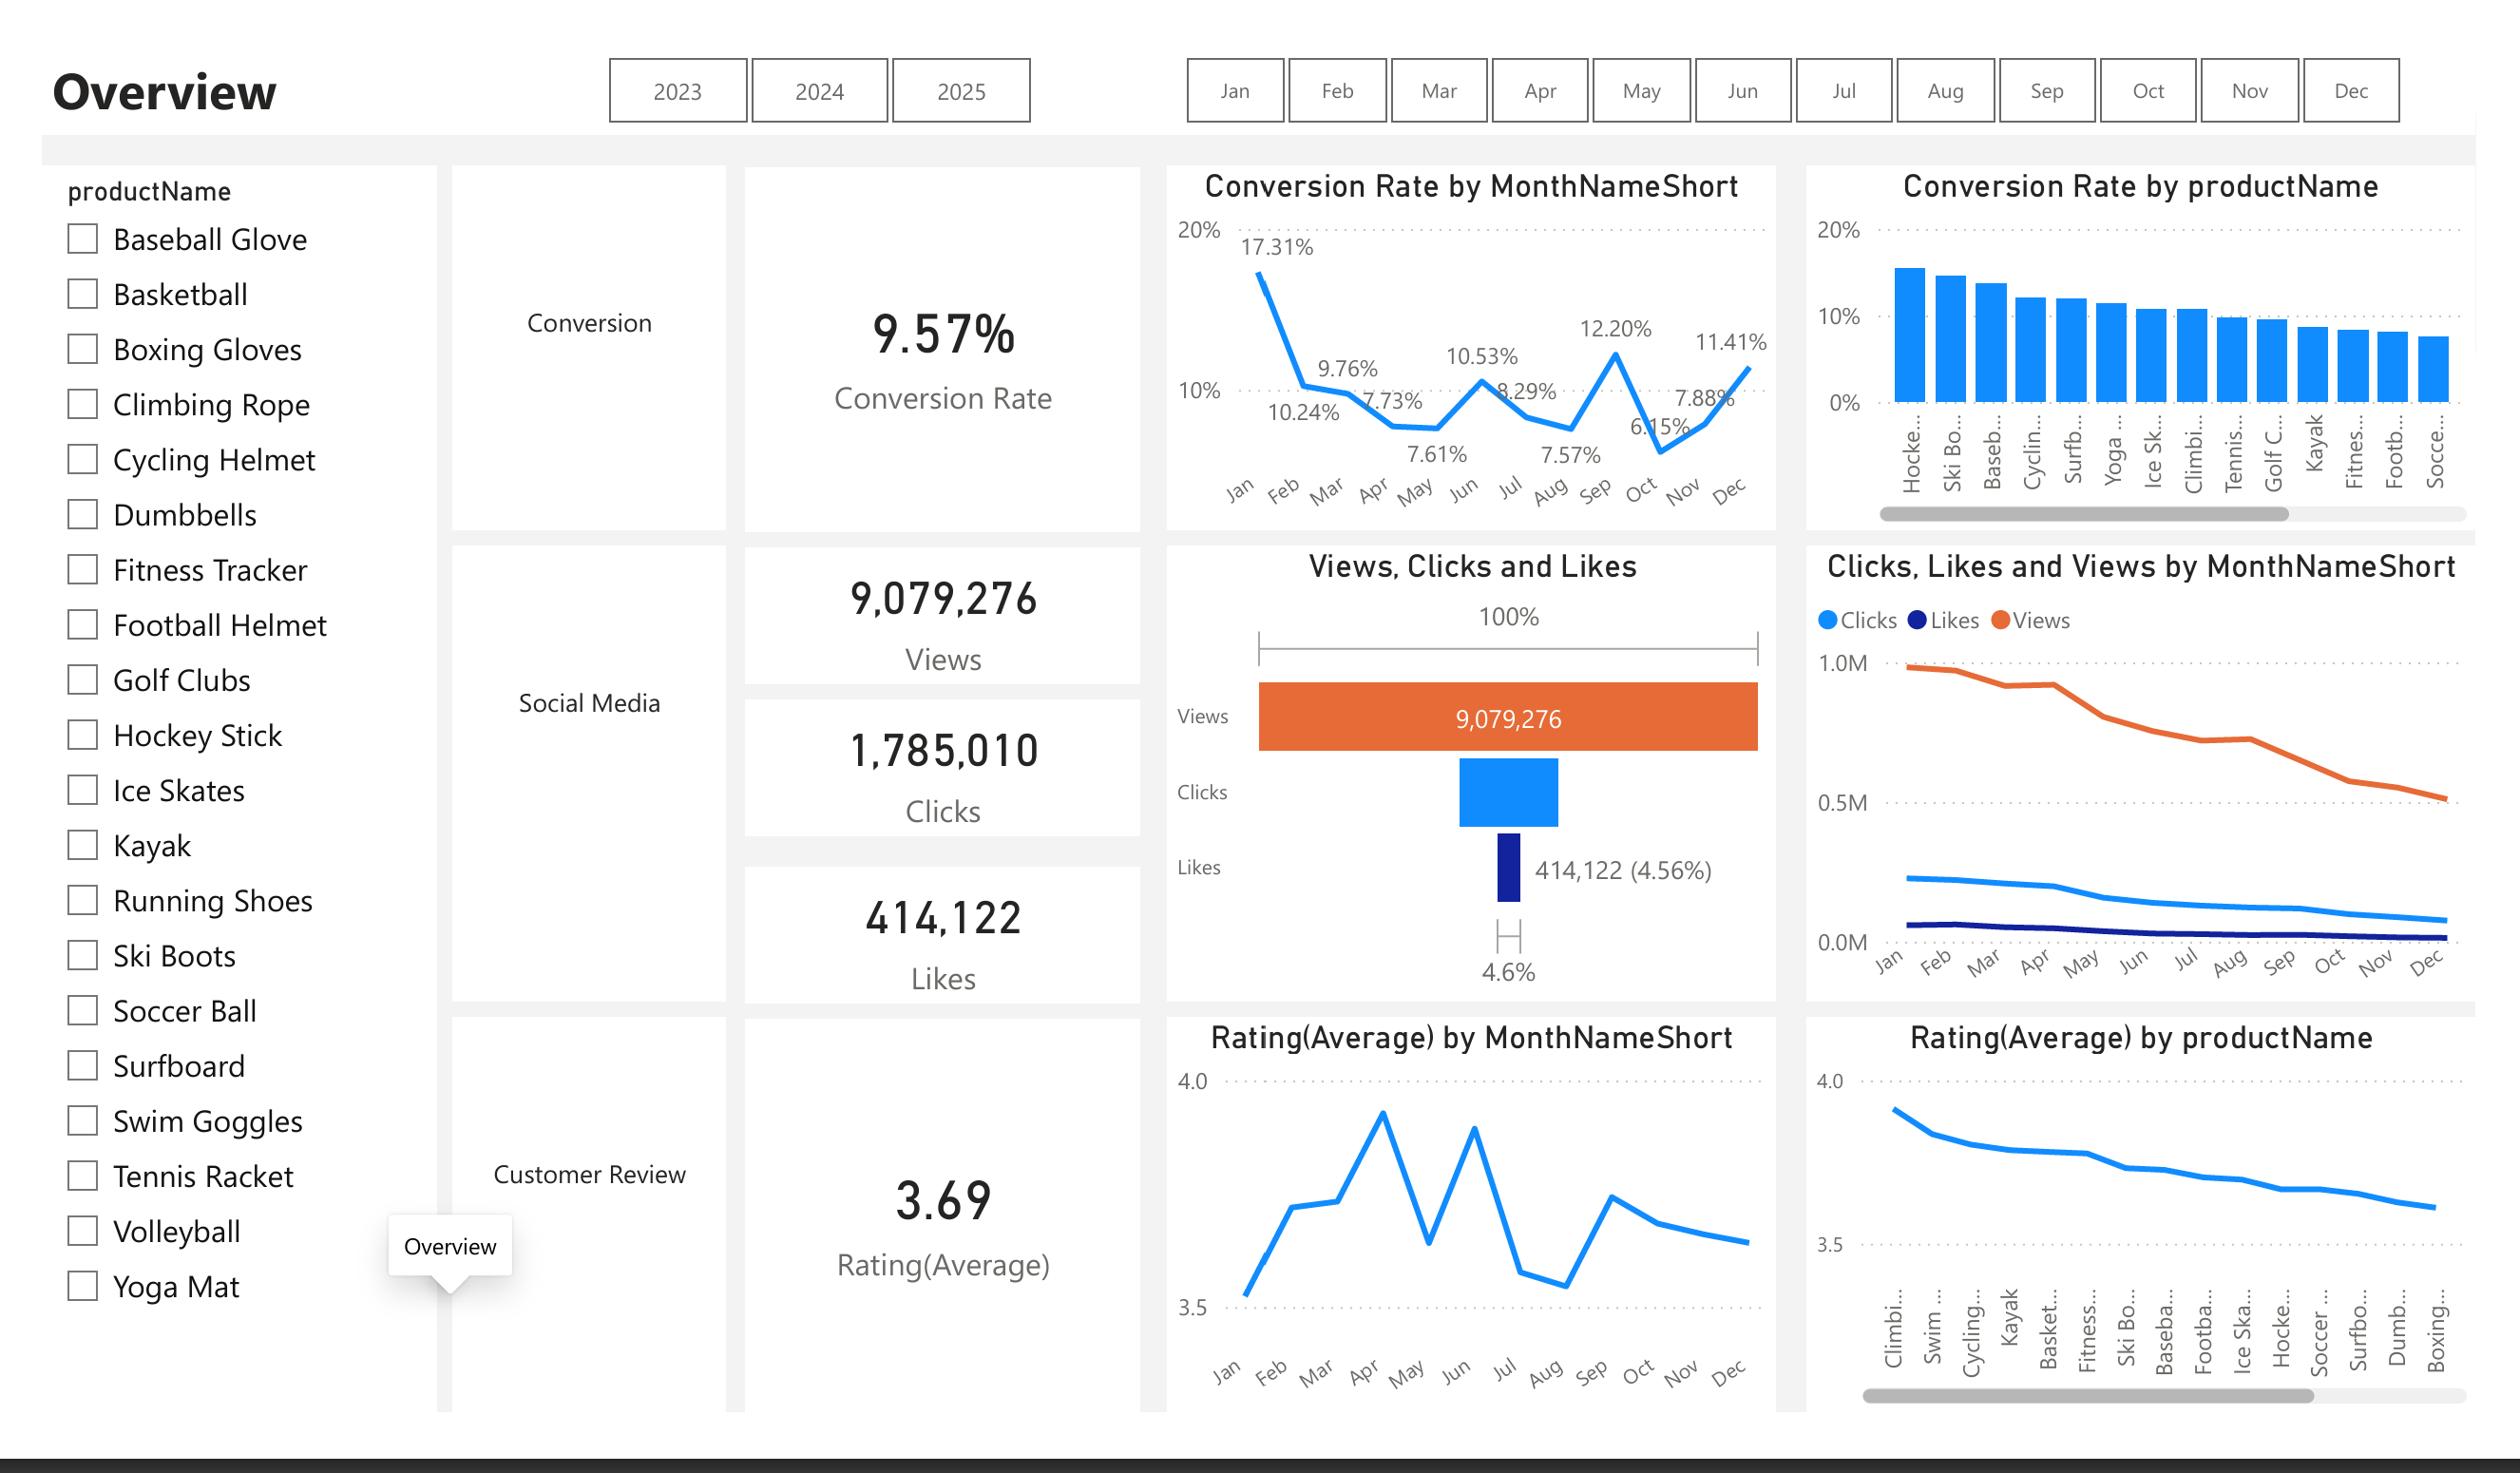

The dashboard page shown, as its layout file describes it:
{"tool":"powerbi","page":{"name":"Overview","canvas":[1280,720],"ordinal":0},"visuals":[{"type":"card","fields":{"Values":["Calculations.Conversion Rate"]},"box":[370,65.1,208,192],"z":0},{"type":"textbox","box":[0,0,1280,48],"z":1000},{"type":"slicer","fields":{"Values":["dim_products.productName"]},"box":[0,64,208,656],"z":2000},{"type":"textbox","box":[216,64,144,192],"z":3000},{"type":"textbox","box":[216,512,144,208],"z":4000},{"type":"textbox","box":[216,264,144,240],"z":5000},{"type":"card","fields":{"Values":["Calculations.Rating(Average)"]},"box":[370,513.1,208,208],"z":6000},{"type":"card","fields":{"Values":["Calculations.Likes"]},"box":[370,433.1,208,72],"z":7000},{"type":"card","fields":{"Values":["Calculations.Clicks"]},"box":[370,345.1,208,72],"z":8000},{"type":"card","fields":{"Values":["Calculations.Views"]},"box":[370,265.1,208,72],"z":9000},{"type":"slicer","fields":{"Values":["Calendar.Date.Variation.Date Hierarchy.Year"]},"box":[272,0,272,48],"z":10000},{"type":"slicer","fields":{"Values":["Calendar.MonthNameShort"]},"box":[576,0,688,48],"z":11000},{"type":"lineChart","fields":{"Y":["Calculations.Conversion Rate"],"Category":["Calendar.MonthNameShort"]},"box":[592,64,320,192],"z":12000},{"type":"columnChart","fields":{"Category":["dim_products.productName"],"Y":["Calculations.Conversion Rate"]},"box":[928,64,352,192],"z":13000},{"type":"lineChart","fields":{"Category":["Calendar.MonthNameShort"],"Y":["Calculations.Clicks","Calculations.Likes","Calculations.Views"]},"box":[928,264,352,240],"z":14000},{"type":"funnel","fields":{"Y":["Calculations.Views","Calculations.Clicks","Calculations.Likes"]},"box":[592,264,320,240],"z":15000},{"type":"lineChart","fields":{"Category":["Calendar.MonthNameShort"],"Y":["Calculations.Rating(Average)"]},"box":[592,512,320,208],"z":16000},{"type":"lineChart","fields":{"Y":["Calculations.Rating(Average)"],"Category":["dim_products.productName"]},"box":[928,512,352,208],"z":17000}]}

Visuals, with their boxes on the page's 1280x720 design canvas (x1, y1, x2, y2). These are canvas units, not pixel positions in the 2520x1473 screenshot, which may show the page scaled, cropped or inside an application window:
card - Calculations.Conversion Rate: <bbox>370, 65, 578, 257</bbox>
textbox: <bbox>0, 0, 1280, 48</bbox>
slicer - dim_products.productName: <bbox>0, 64, 208, 720</bbox>
textbox: <bbox>216, 64, 360, 256</bbox>
textbox: <bbox>216, 512, 360, 720</bbox>
textbox: <bbox>216, 264, 360, 504</bbox>
card - Calculations.Rating(Average): <bbox>370, 513, 578, 721</bbox>
card - Calculations.Likes: <bbox>370, 433, 578, 505</bbox>
card - Calculations.Clicks: <bbox>370, 345, 578, 417</bbox>
card - Calculations.Views: <bbox>370, 265, 578, 337</bbox>
slicer - Calendar.Date.Variation.Date Hierarchy.Year: <bbox>272, 0, 544, 48</bbox>
slicer - Calendar.MonthNameShort: <bbox>576, 0, 1264, 48</bbox>
lineChart - Calculations.Conversion Rate x Calendar.MonthNameShort: <bbox>592, 64, 912, 256</bbox>
columnChart - dim_products.productName x Calculations.Conversion Rate: <bbox>928, 64, 1280, 256</bbox>
lineChart - Calendar.MonthNameShort x Calculations.Clicks: <bbox>928, 264, 1280, 504</bbox>
funnel - Calculations.Views x Calculations.Clicks: <bbox>592, 264, 912, 504</bbox>
lineChart - Calendar.MonthNameShort x Calculations.Rating(Average): <bbox>592, 512, 912, 720</bbox>
lineChart - Calculations.Rating(Average) x dim_products.productName: <bbox>928, 512, 1280, 720</bbox>
